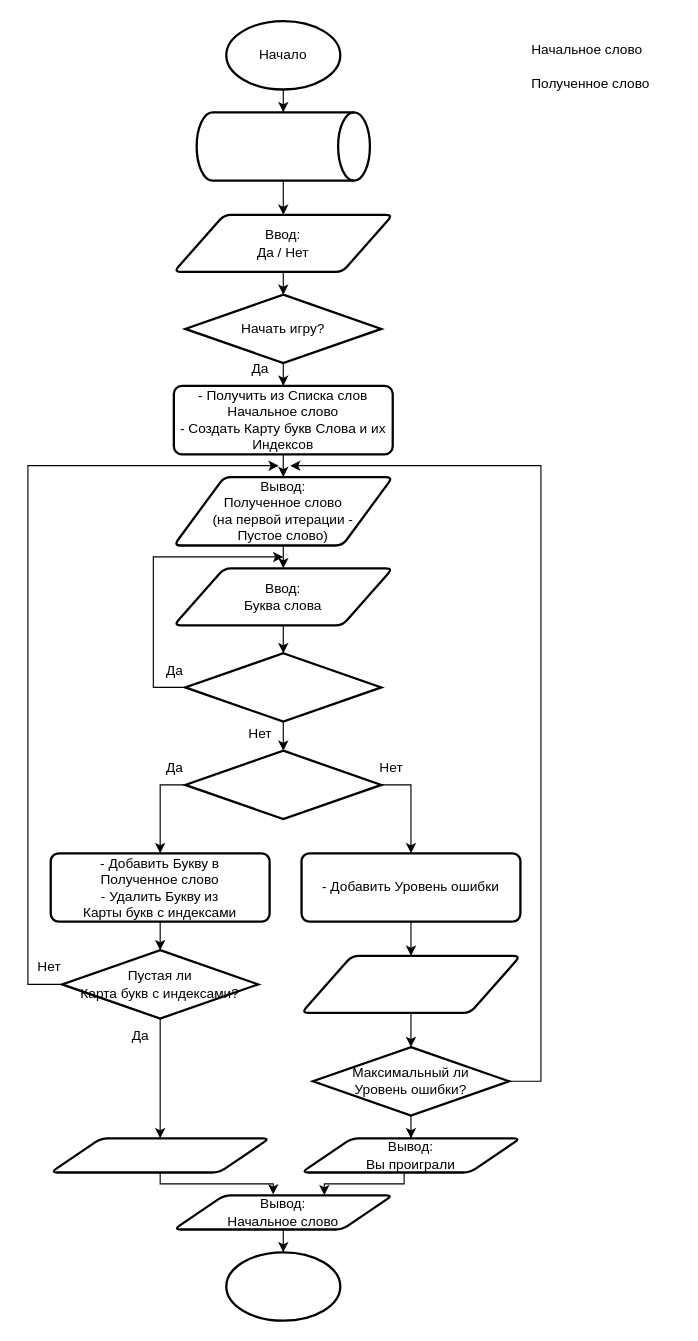
Image size: 698x1341. Some labels were removed from this diagram. Each missing label, with the box of its shape:
Вывод: Виселица по Уровню ошибки: (300, 954, 521, 1013)
Вывод: Вы выиграли: (49, 1137, 270, 1173)
Есть ли буква в Отгадываемом слове?: (184, 749, 382, 820)
Есть ли буква в Полученном слове?: (184, 652, 382, 722)
Загрузить Список слов: (195, 111, 370, 181)
Конец: (225, 1251, 341, 1321)
